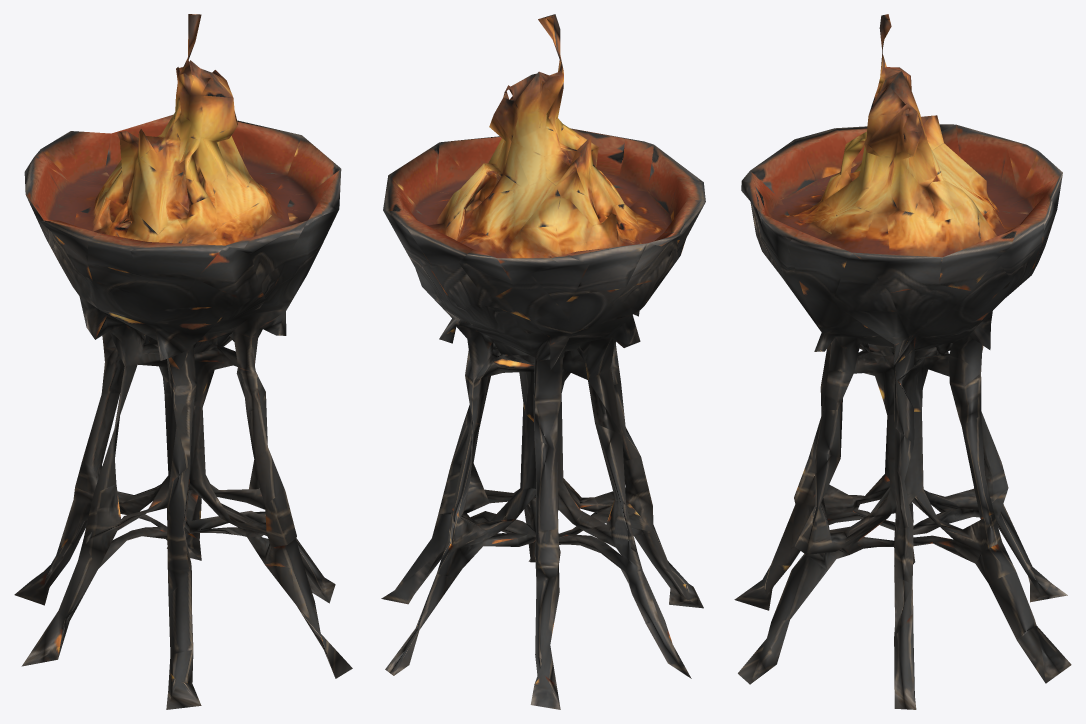
Rendered from ritual_brazier_lit.glb.
3 renders of one model, left to right at view 1: azimuth 30°, elevation 25°; view 2: azimuth 150°, elevation 25°; view 3: azimuth 270°, elevation 25°, orthographic.
Bounding box in the file's own units: 1.02 × 1.95 × 0.9548.
Materials: 1 (1 with a texture image).
